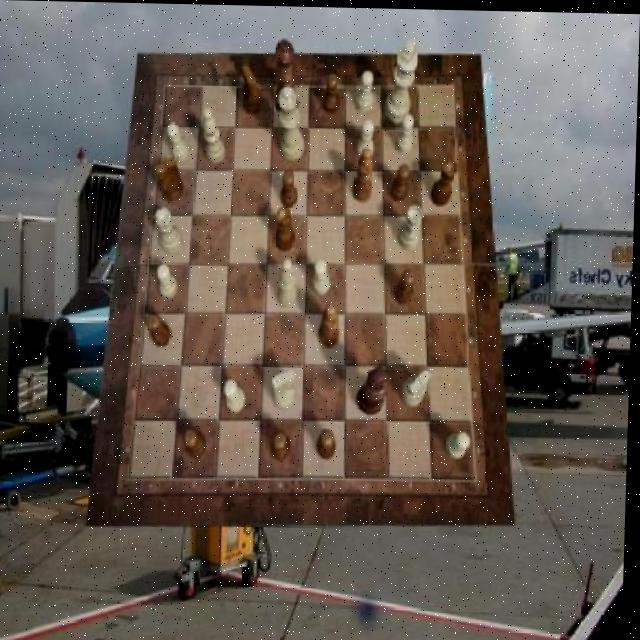bishop: (353, 145, 374, 200), (321, 301, 343, 346)
black-bishop: (357, 365, 392, 413)
black-king: (156, 155, 184, 201), (241, 64, 263, 116)
black-knight: (147, 313, 173, 348), (185, 426, 209, 458), (392, 162, 412, 200), (396, 267, 417, 303), (322, 73, 340, 113), (281, 170, 299, 208), (318, 427, 338, 459), (272, 431, 293, 461)
black-pawn: (273, 37, 299, 115)
black-queen: (431, 157, 460, 205), (276, 203, 297, 249)
black-rook: (202, 107, 227, 162), (278, 257, 301, 307)
white-bishop: (384, 36, 419, 122)
white-king: (402, 367, 432, 406), (274, 368, 298, 408)
white-knight: (166, 121, 190, 162), (225, 378, 249, 412), (159, 263, 180, 299), (356, 117, 374, 159), (356, 70, 374, 111), (396, 112, 413, 154), (448, 430, 473, 458), (314, 258, 332, 294)
white-pawn: (278, 83, 307, 160)
white-queen: (156, 208, 184, 254), (398, 202, 423, 248)
